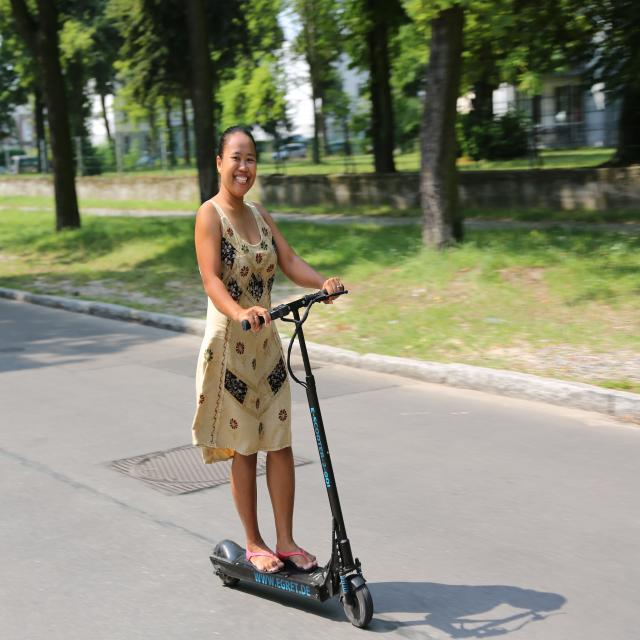non-helmet: (176, 113, 389, 632)
